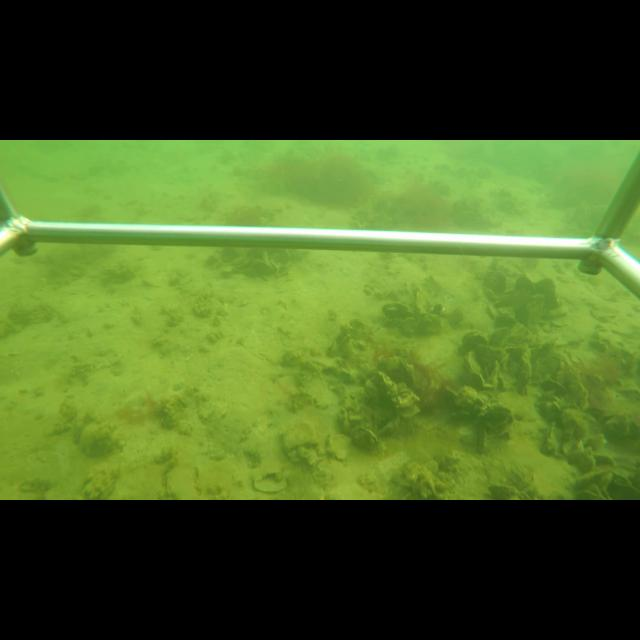Oyster-Closed: (348, 426, 382, 456)
